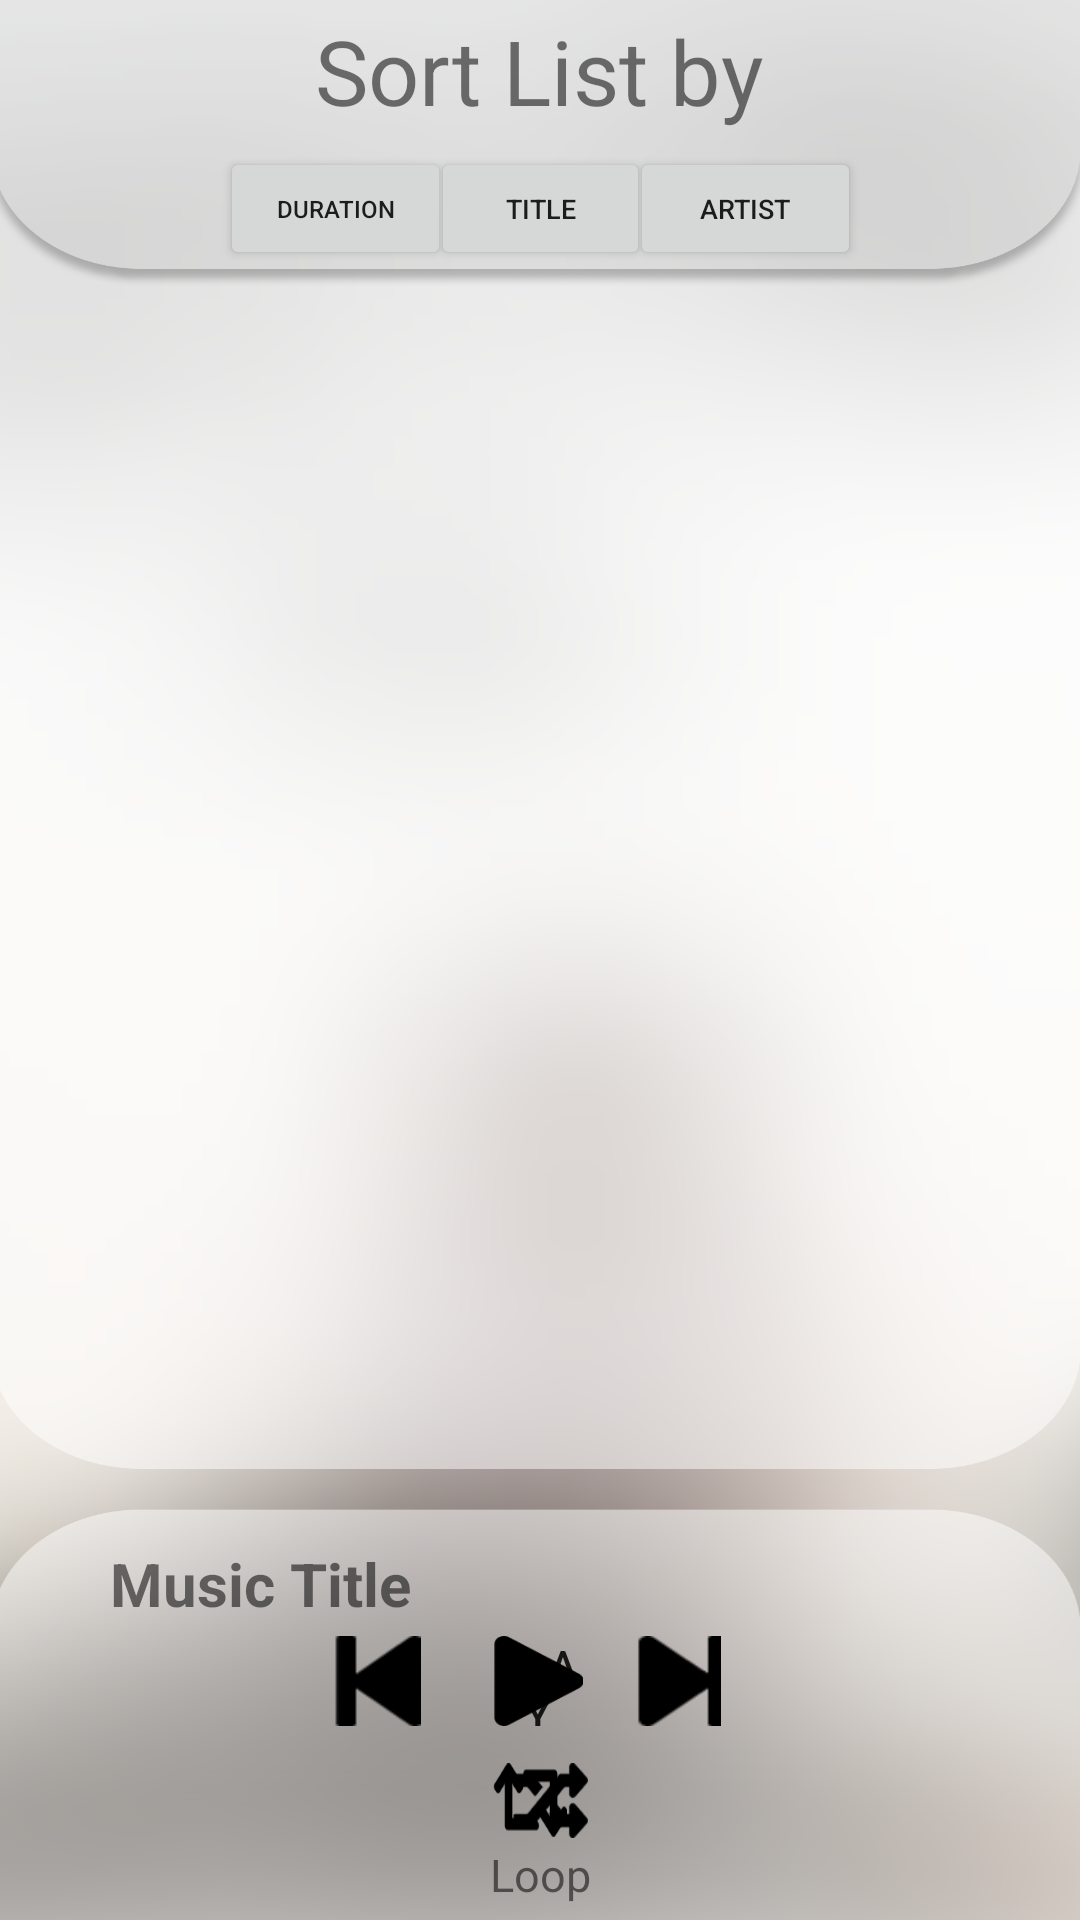

Point at icon controls on the screen. Image size 1080 × 1920, points as [x,y].
back: [378,1681]
next: [679,1681]
